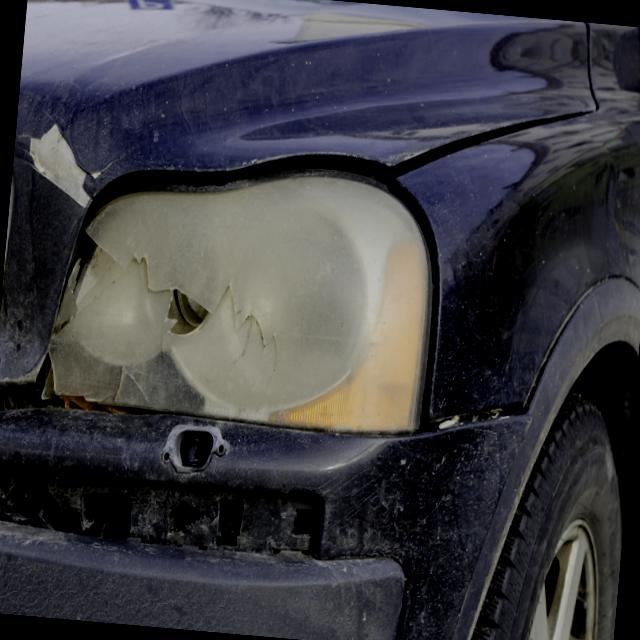Phare abime: (28, 122, 471, 478)
Rayure: (25, 115, 104, 223)
